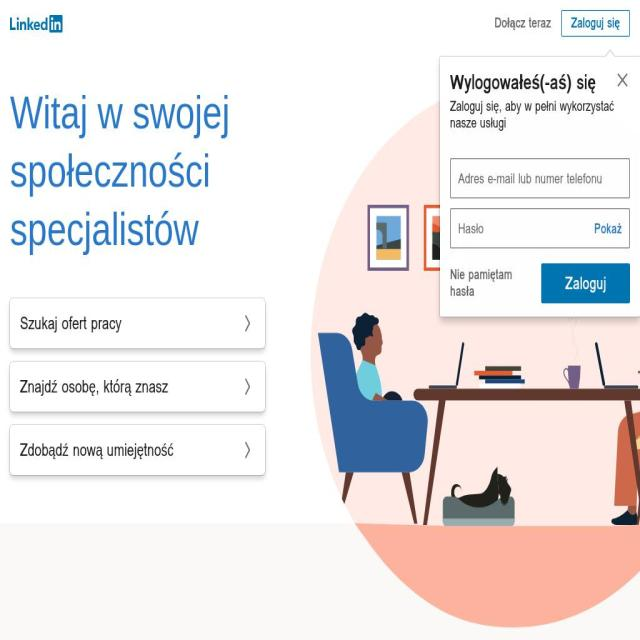button: (10, 298, 265, 348), (10, 362, 265, 412), (10, 425, 265, 475), (541, 264, 630, 304), (450, 267, 537, 300), (561, 10, 630, 37), (586, 208, 630, 250), (489, 10, 556, 37), (608, 60, 638, 100), (10, 14, 62, 33)
field: (450, 158, 630, 198), (450, 208, 586, 248)
heading: (10, 84, 351, 258), (450, 98, 630, 132), (450, 70, 630, 95)
image: (296, 81, 640, 640), (10, 14, 62, 33), (615, 70, 630, 90), (240, 314, 255, 334), (240, 376, 255, 396), (240, 440, 255, 460)
label: (450, 158, 630, 198), (450, 208, 630, 248)
text: (20, 438, 174, 462), (20, 375, 169, 398), (20, 312, 122, 335)
